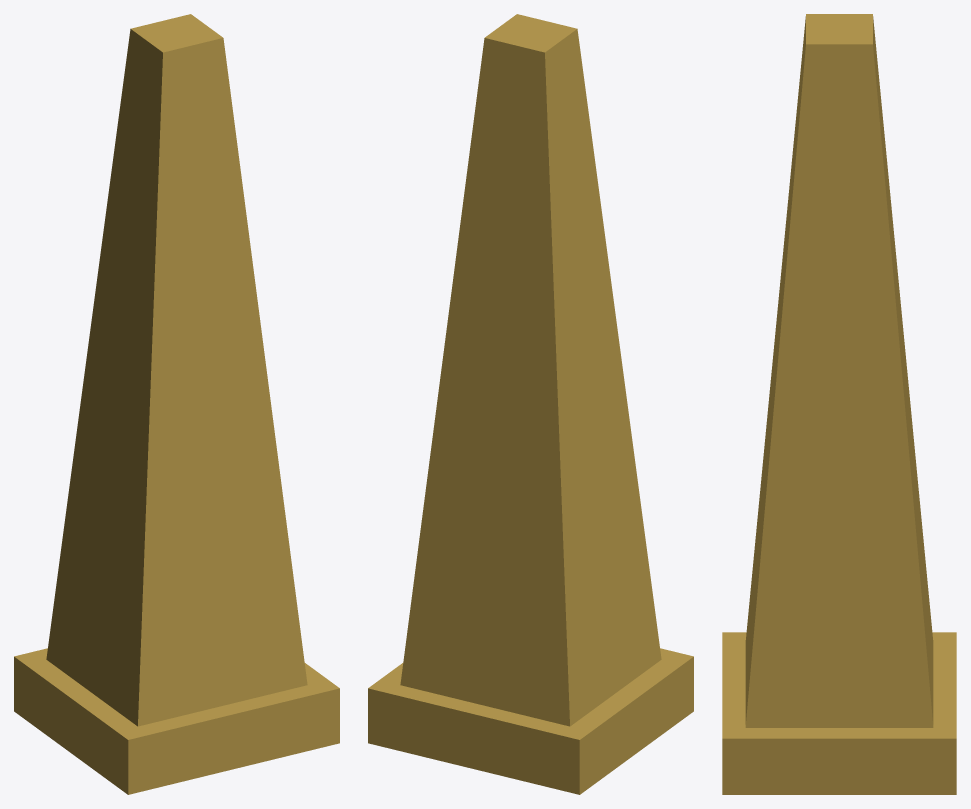
3 views of the same model, side by side, from view 1: azimuth 30°, elevation 25°; view 2: azimuth 150°, elevation 25°; view 3: azimuth 270°, elevation 25° (orthographic). The views are drawn at different scales.
Visible parts, largest first — view 1: Cone; view 2: Cone; view 3: Cone.
Part boxes in pixels (bbox=[...]): Cone: bbox=[14, 14, 339, 794]; Cone: bbox=[368, 14, 693, 794]; Cone: bbox=[722, 14, 956, 794].
Bounding box in the file's own units: 0.3614 × 1.13 × 0.3374.
